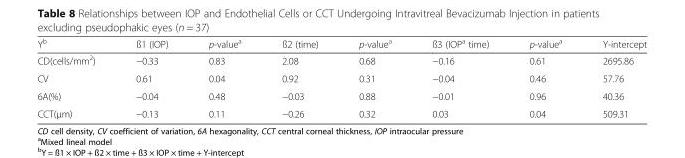table: (36, 36, 645, 119)
table column: (411, 36, 508, 119), (36, 36, 115, 119), (260, 36, 337, 119), (337, 36, 411, 119), (187, 36, 260, 119), (508, 36, 581, 119), (115, 36, 187, 119), (581, 36, 645, 119)
table column header: (36, 36, 645, 51)
table row: (36, 51, 645, 69), (36, 86, 645, 104), (36, 69, 645, 86), (36, 36, 645, 51), (36, 104, 645, 119)
